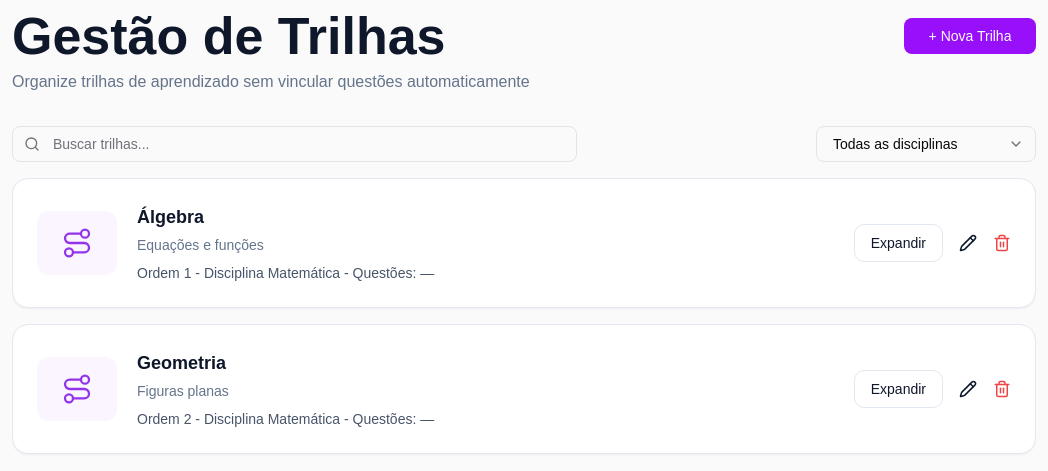
Test: TrailsPage › filtra trilhas pelo nome na busca
The image size is (1048, 471).
Expected: the heading "Álgebra" is shown, [137,207,204,227]
Type "geo" into the field with placeholder "Buscar trilhas..." at (294, 144), box [12,126,577,162]
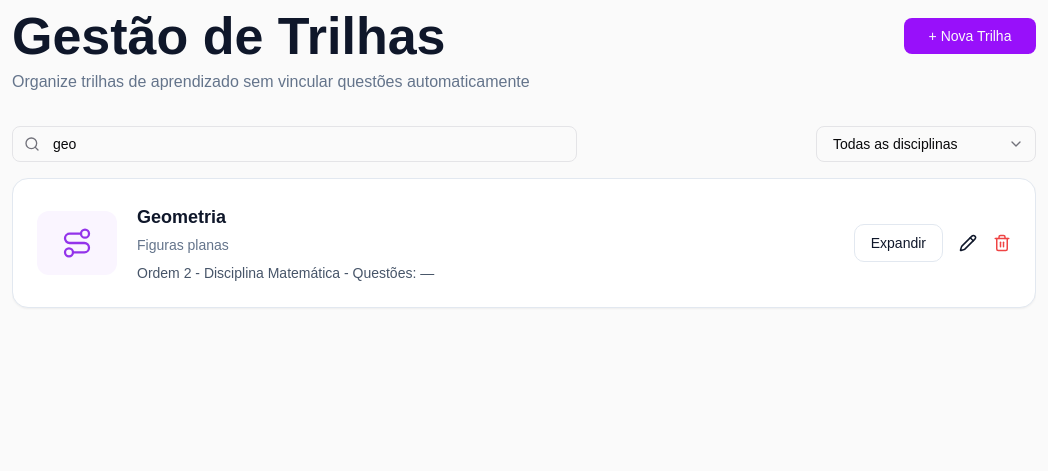
Expected: the heading "Geometria" is shown, [137,207,226,227]
Result: the heading "Álgebra" is gone
